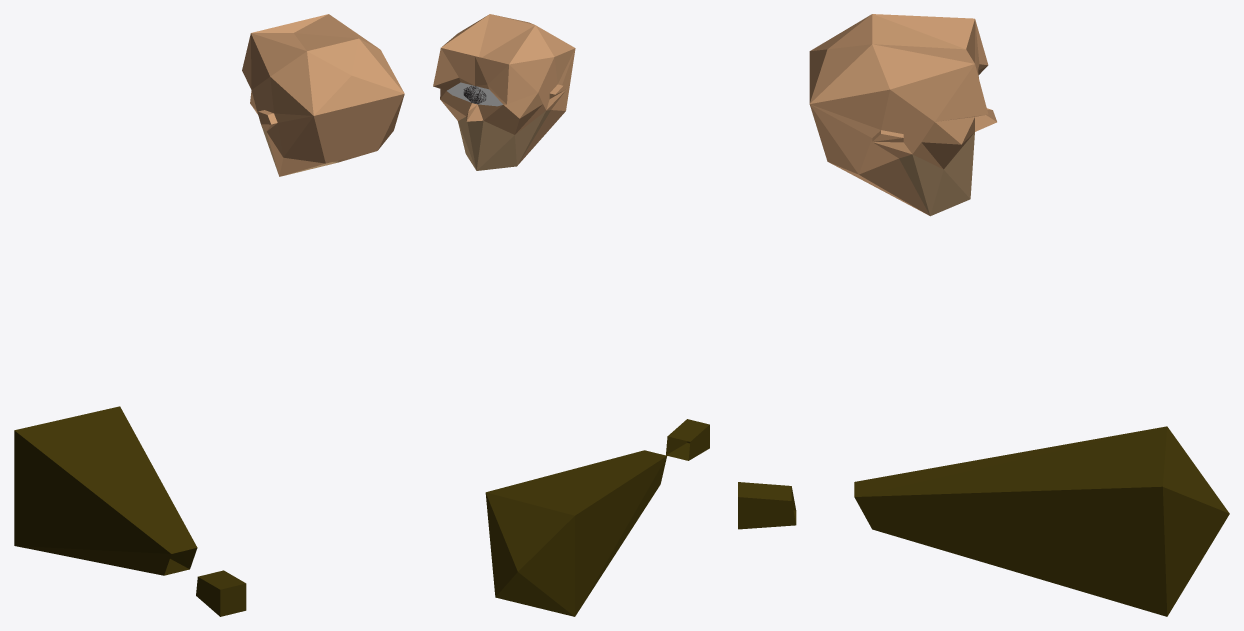
The model's file is npc_world_cyclops_1.obj.
The picture shows the model from 3 angles, left to right: view 1: azimuth 30°, elevation 25°; view 2: azimuth 150°, elevation 25°; view 3: azimuth 270°, elevation 25°; orthographic projection. The views are drawn at different scales.
Bounding box in the file's own units: 0.6172 × 1.25 × 0.8594.
